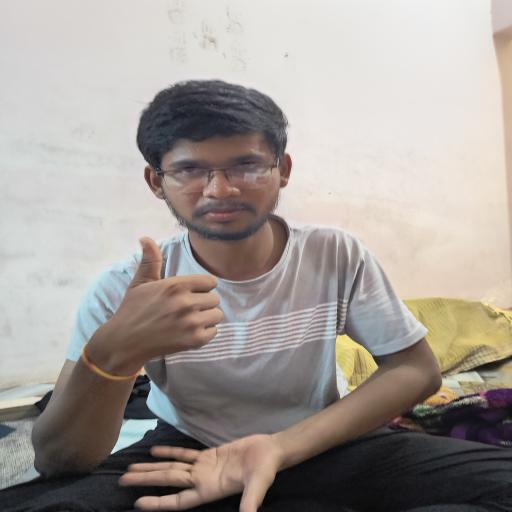Good Morning: (51, 234, 257, 376)
